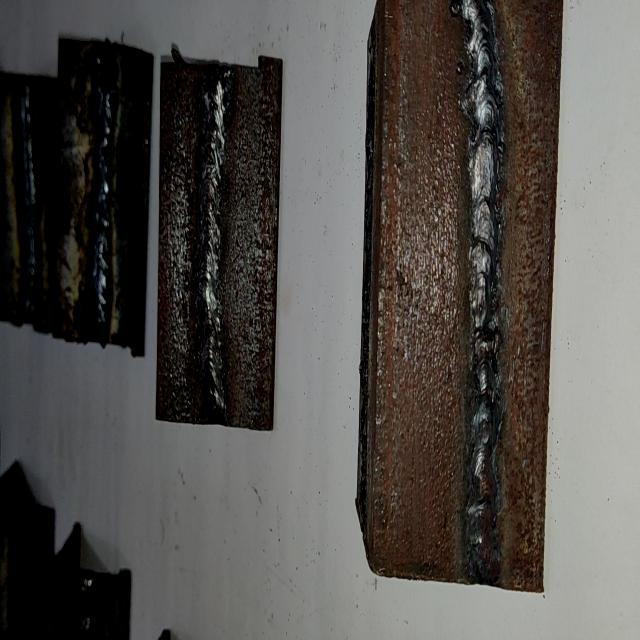Good Weld: (461, 0, 502, 568), (198, 68, 233, 418), (91, 50, 118, 336), (17, 81, 39, 317)
